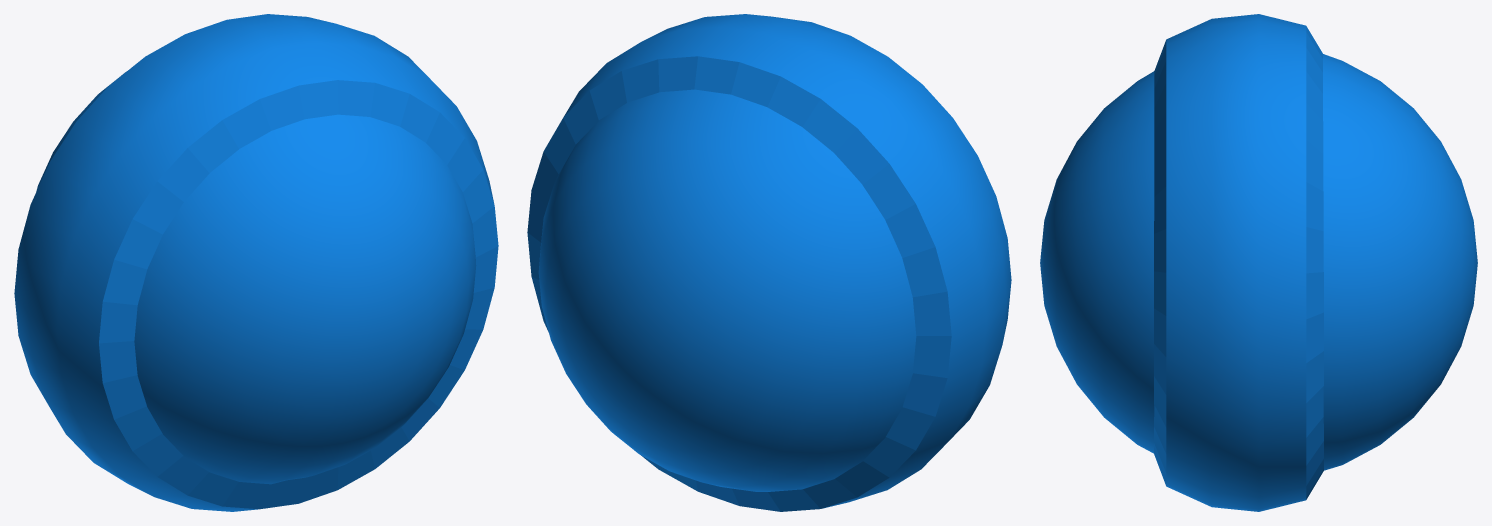
The picture shows the model from 3 angles, left to right: view 1: azimuth 30°, elevation 25°; view 2: azimuth 150°, elevation 25°; view 3: azimuth 270°, elevation 25°; orthographic projection. The views are drawn at different scales.
Parts seen in each view (by area): view 1: Sphere001, 对象001; view 2: Sphere001, 对象001; view 3: 对象001, Sphere001.
Boxes of the visible parts, x1,y1,x2,y2 form: Sphere001: (36, 72, 476, 484); 对象001: (14, 14, 498, 511); Sphere001: (538, 89, 916, 491); 对象001: (527, 14, 1011, 511); 对象001: (1154, 14, 1323, 511); Sphere001: (1040, 54, 1477, 470).
Size of the model in its own units: 43.58 by 43.58 by 38.28.
